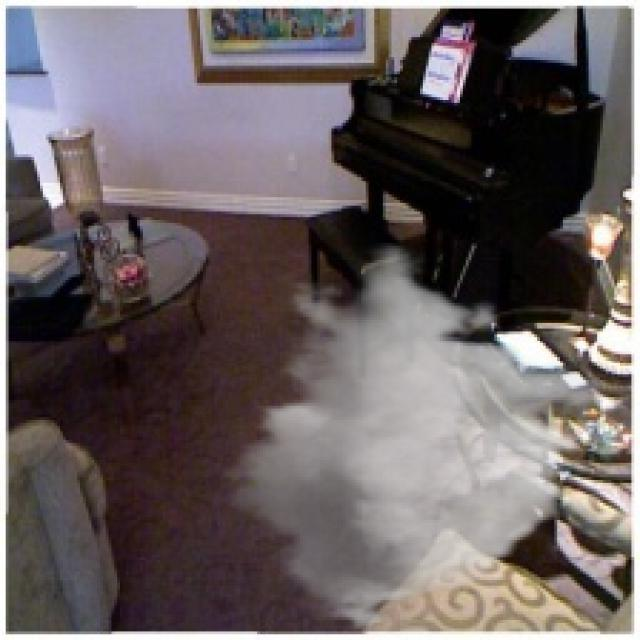Smoke: (217, 242, 609, 634)
